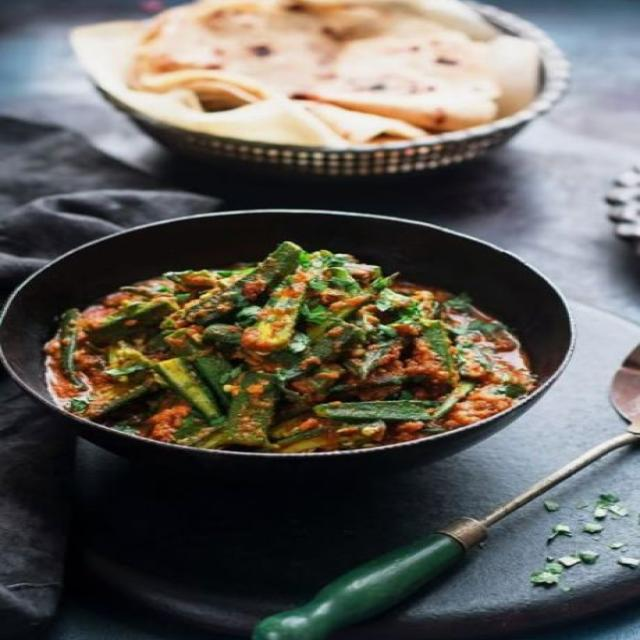CHAPATHI: (63, 3, 553, 150)
VEGGIES: (42, 242, 541, 460)
